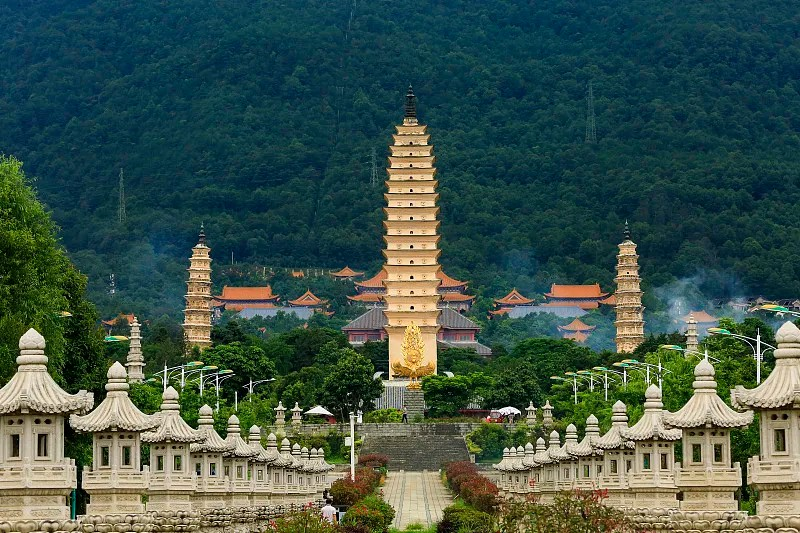ThreePagoda: (381, 83, 442, 381)
